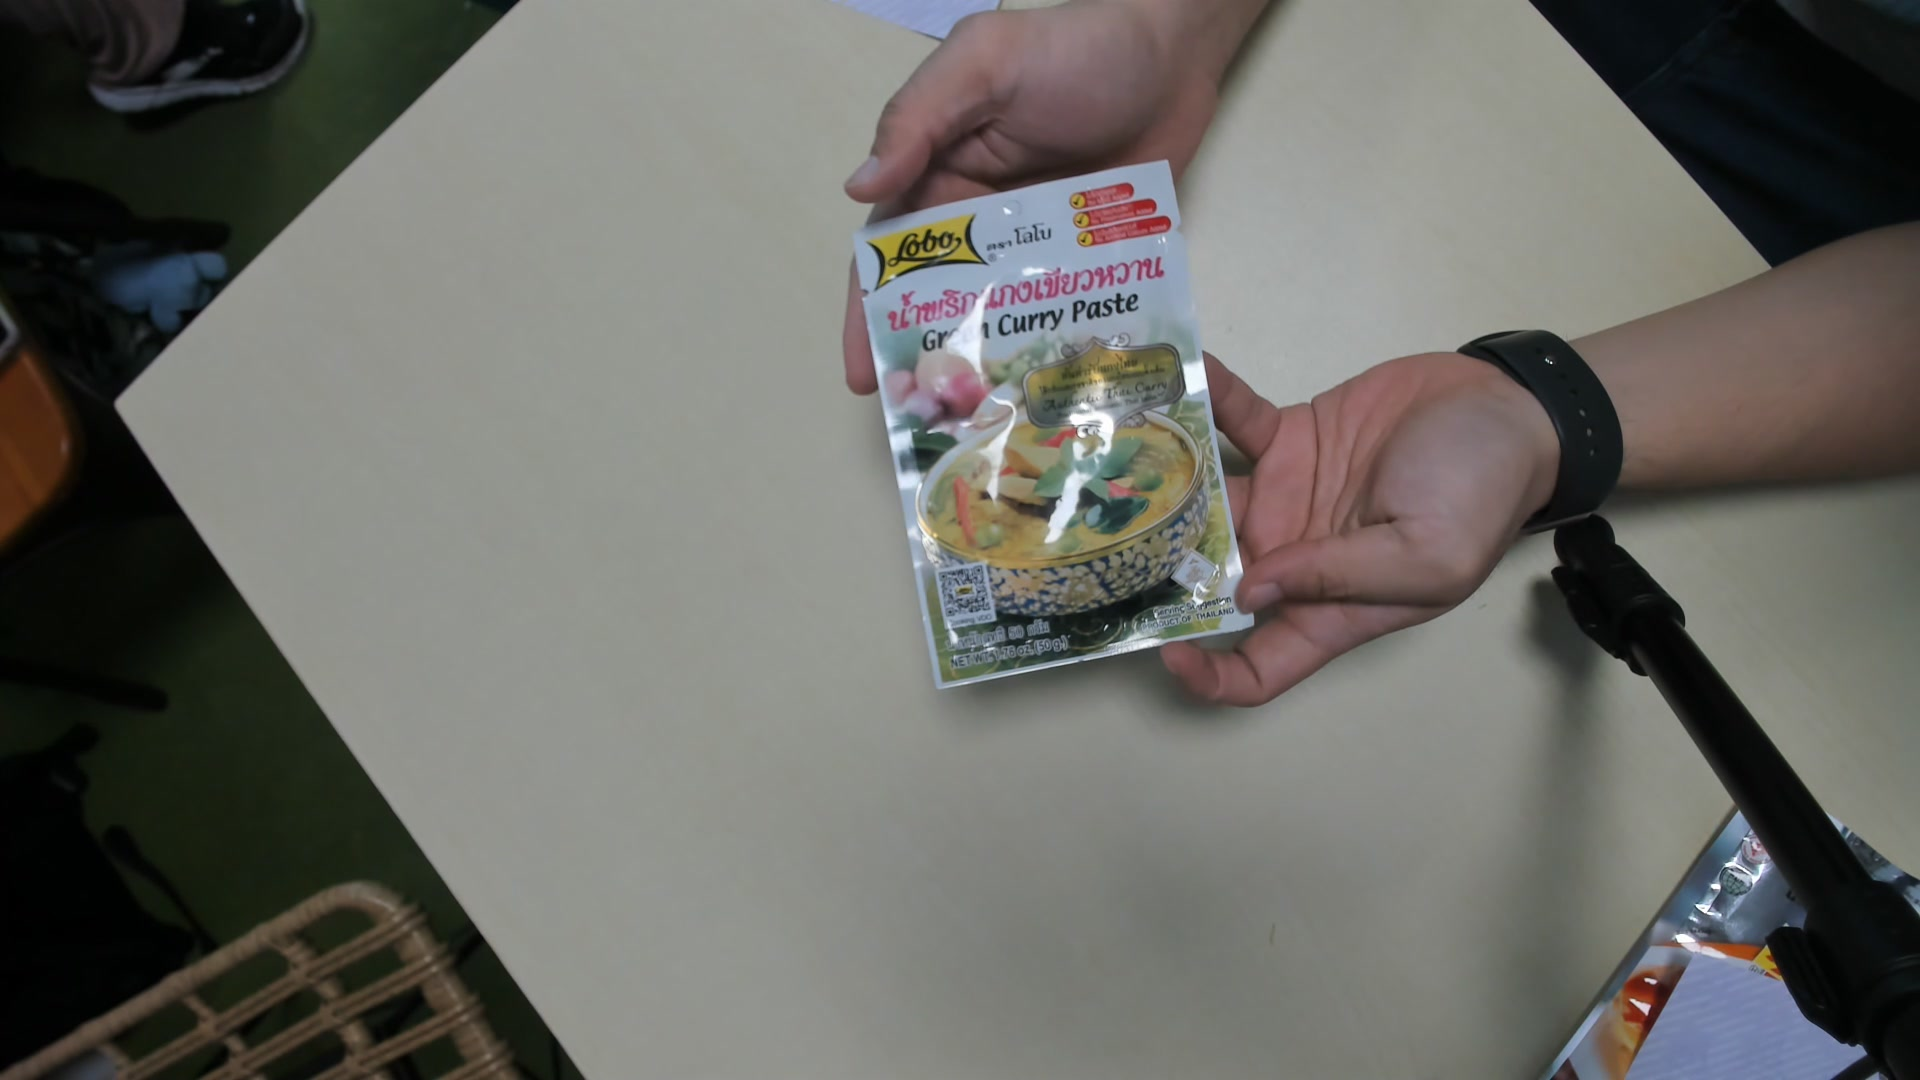CurryPastePowderSauce_0-99g_Halal_NonHealthy: (855, 160, 1255, 695)
